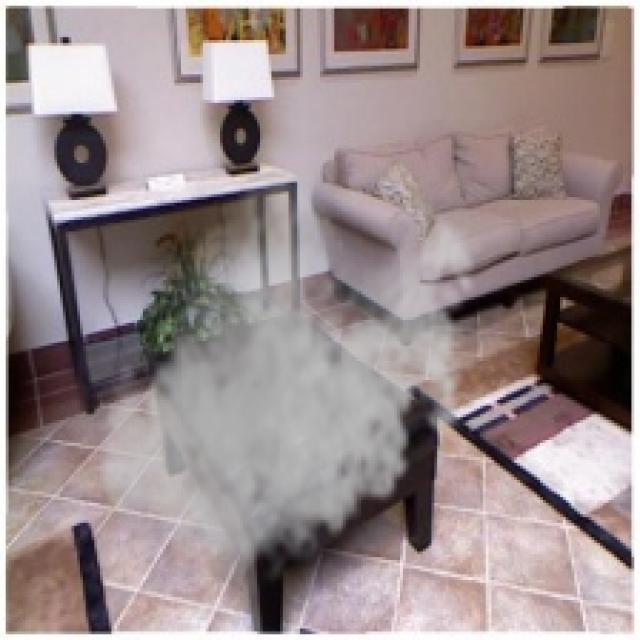Smoke: (91, 172, 488, 592)
